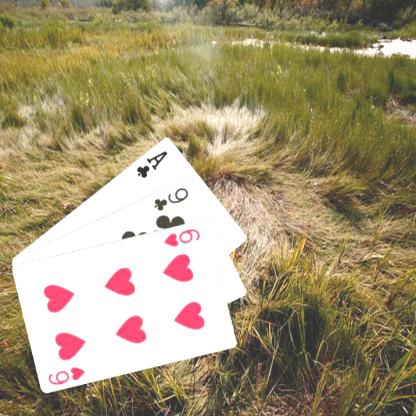6H: (45, 364, 87, 386), (162, 226, 202, 248)
9C: (151, 184, 190, 212)
AC: (134, 148, 169, 180)
